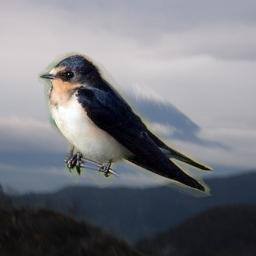Swallow: (38, 51, 213, 198)
